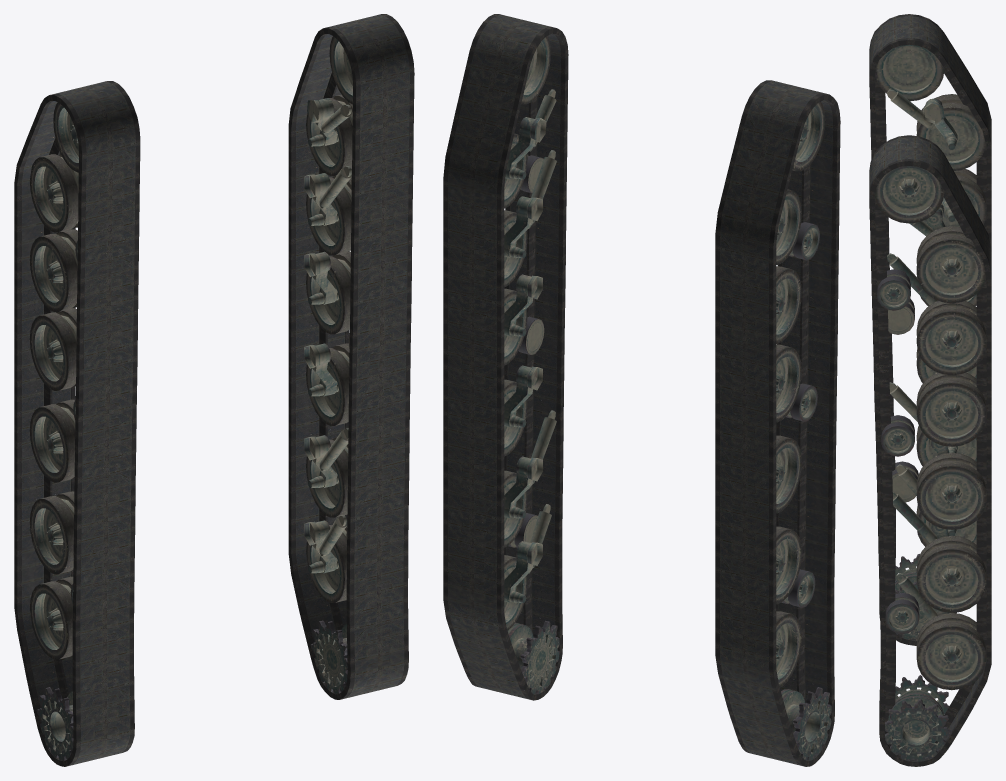
Rendered from Chassis.glb.
3 views of the same model, side by side, from view 1: azimuth 30°, elevation 25°; view 2: azimuth 150°, elevation 25°; view 3: azimuth 270°, elevation 25° (orthographic). The views are drawn at different scales.
Parts seen in each view (by area): view 1: set_0_group_0, set_1_group_0, set_3_group_0, set_2_group_0; view 2: set_1_group_0, set_0_group_0, set_3_group_0, set_2_group_0; view 3: set_3_group_0, set_0_group_0, set_2_group_0, set_1_group_0.
Part boxes in pixels (x1,y1,x2,y2): set_0_group_0: [288, 14, 414, 699]; set_1_group_0: [14, 81, 140, 766]; set_3_group_0: [304, 36, 352, 694]; set_2_group_0: [29, 102, 78, 760]; set_1_group_0: [715, 80, 840, 766]; set_0_group_0: [443, 14, 568, 700]; set_3_group_0: [467, 36, 559, 694]; set_2_group_0: [739, 101, 831, 765]; set_3_group_0: [874, 166, 986, 761]; set_0_group_0: [869, 135, 991, 766]; set_2_group_0: [875, 44, 986, 640]; set_1_group_0: [869, 14, 991, 645].
Bounding box in the file's own units: 3.26 × 6.27 × 1.15.
Materials: 4 (4 with a texture image).
